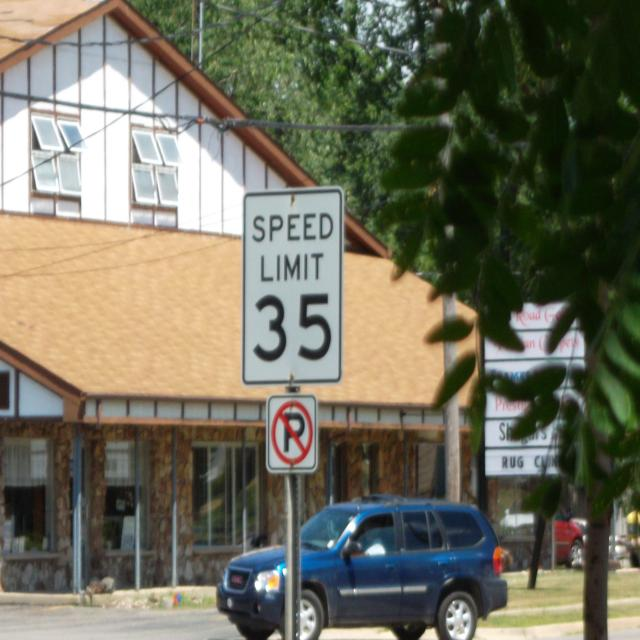regulatory: (240, 180, 341, 386), (261, 394, 321, 482)
